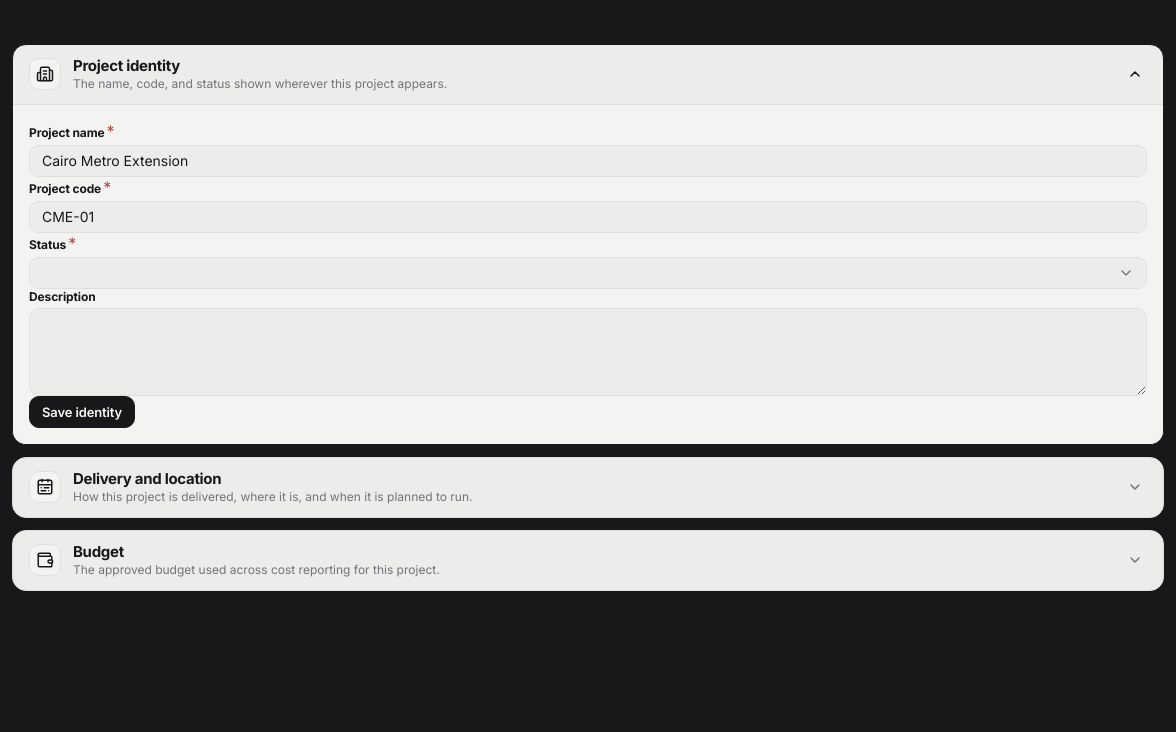
ProjectSettingsPage › saves identity changes through the project update endpoint
Replace the text in the field labelled "Project name" with "Cairo Metro Phase 2" at point(588, 161), box [29,145,1147,177]
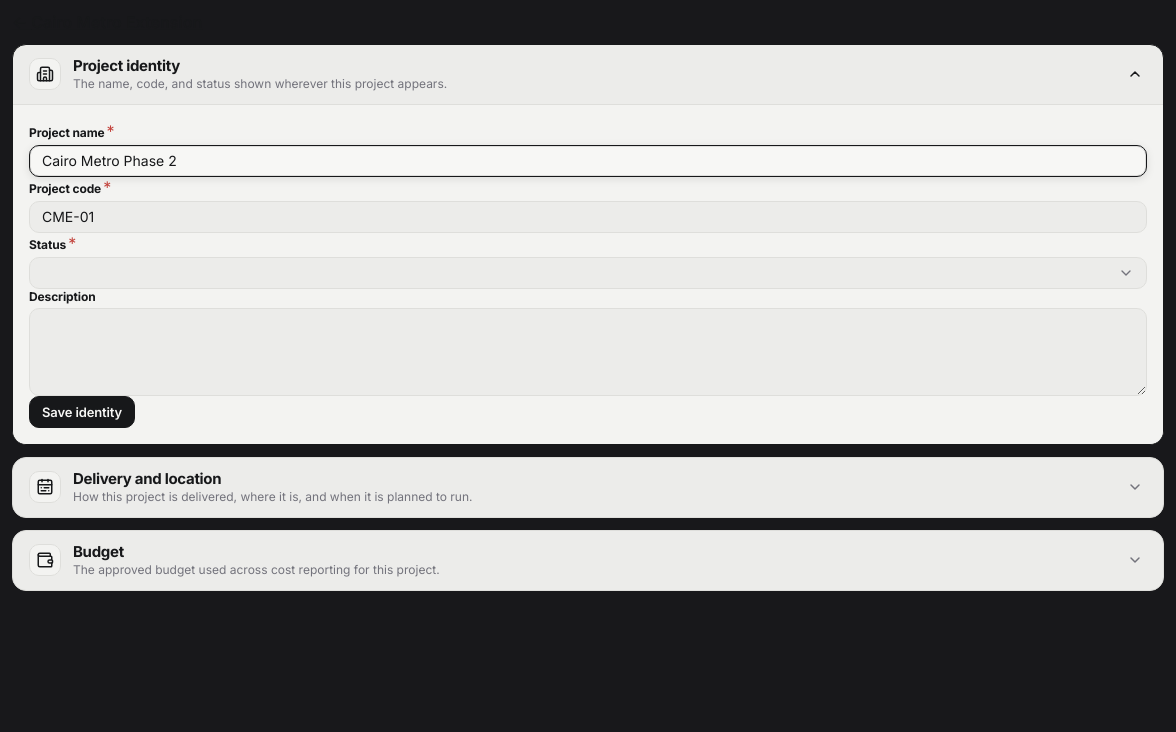
Click the button "Save identity".
click(82, 412)  # box [29,396,135,428]
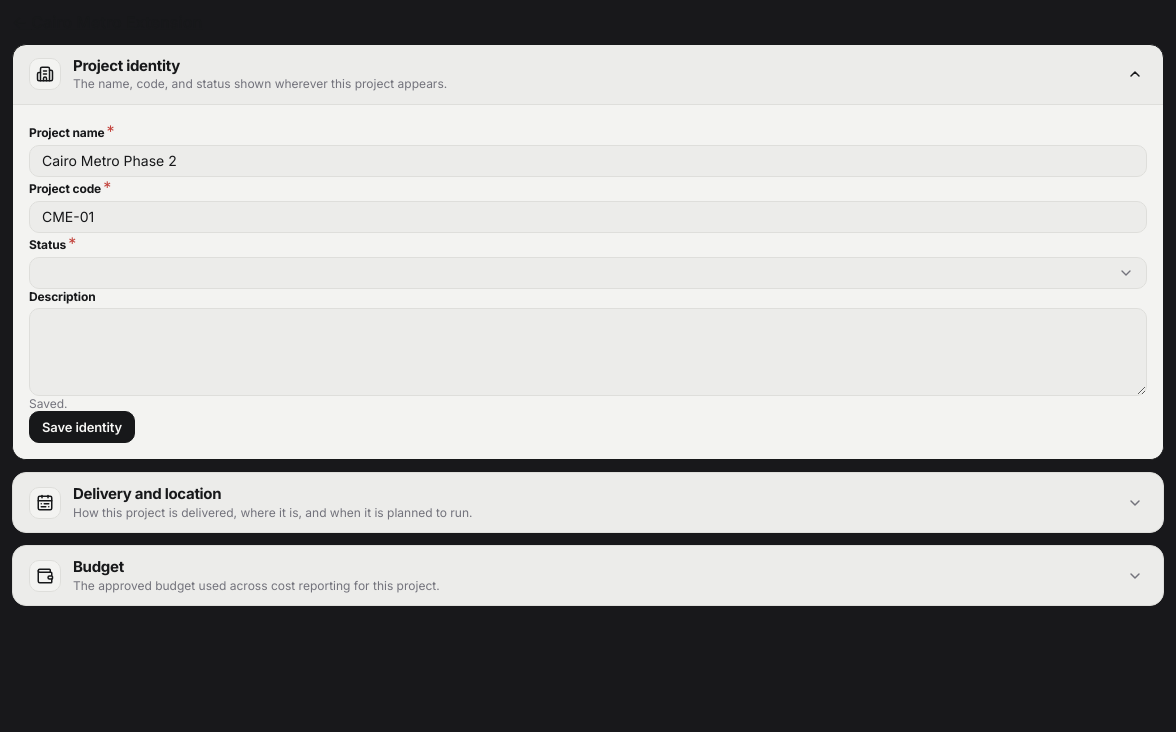
Check: the text "Saved." is shown, box [29,396,68,411]
